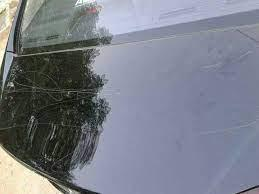Front-Windscreen-Damage: (1, 23, 258, 193)
